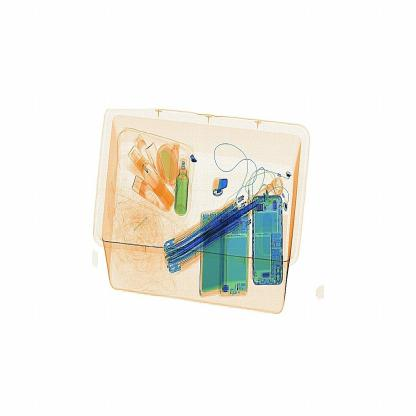wrench: (206, 166, 234, 204)
